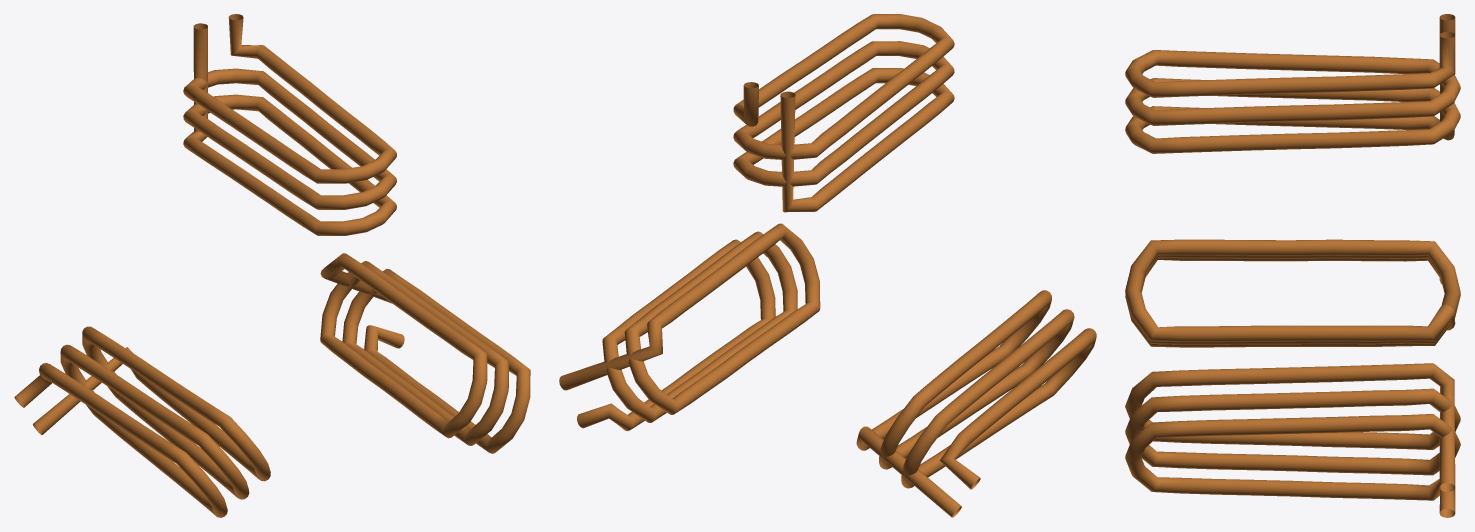
File: DCblCoil8.glb
The picture shows the model from 3 angles, left to right: view 1: azimuth 30°, elevation 25°; view 2: azimuth 150°, elevation 25°; view 3: azimuth 270°, elevation 25°; orthographic projection. The views are drawn at different scales.
Parts seen in each view (by area): view 1: Spiral.004, Spiral.002, Spiral.001; view 2: Spiral.004, Spiral.002, Spiral.001; view 3: Spiral.001, Spiral.004, Spiral.002.
Part boxes in pixels (x1=…): Spiral.004: x1=183, y1=14, x2=396, y2=235; Spiral.002: x1=14, y1=326, x2=270, y2=517; Spiral.001: x1=320, y1=253, x2=530, y2=453; Spiral.004: x1=733, y1=14, x2=954, y2=212; Spiral.002: x1=856, y1=290, x2=1096, y2=517; Spiral.001: x1=559, y1=223, x2=820, y2=431; Spiral.001: x1=1125, y1=363, x2=1460, y2=517; Spiral.004: x1=1125, y1=14, x2=1460, y2=153; Spiral.002: x1=1125, y1=239, x2=1460, y2=347.
Size of the model in its own units: 6.91 by 6.05 by 4.62.
